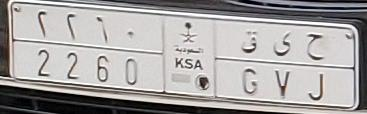0: (124, 29, 139, 87)
2: (63, 12, 80, 80), (35, 10, 51, 77)
6: (96, 14, 109, 83)
G: (240, 29, 260, 95)
J: (306, 32, 329, 101)
V: (272, 31, 294, 98)
